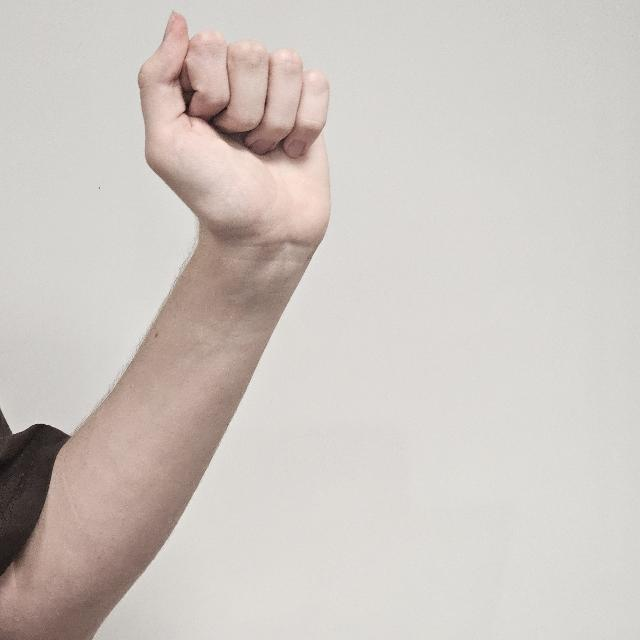Quadro: (138, 11, 332, 252)
